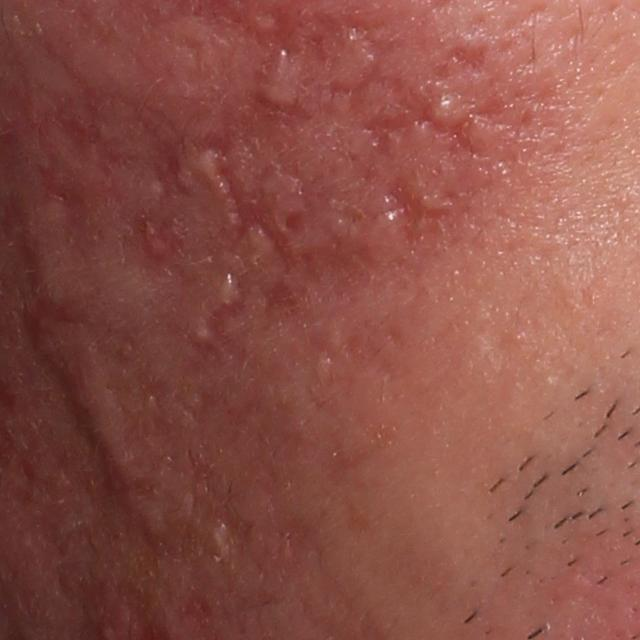atrophic_scar: (111, 271, 353, 521), (0, 403, 181, 599), (314, 7, 507, 167), (194, 131, 296, 275), (3, 202, 77, 354), (296, 229, 379, 298), (187, 275, 248, 365), (388, 178, 462, 248), (444, 41, 492, 72)
hypertrophic_scar: (36, 324, 140, 487), (207, 521, 237, 561), (189, 149, 223, 183), (212, 272, 235, 309), (432, 94, 461, 120)
